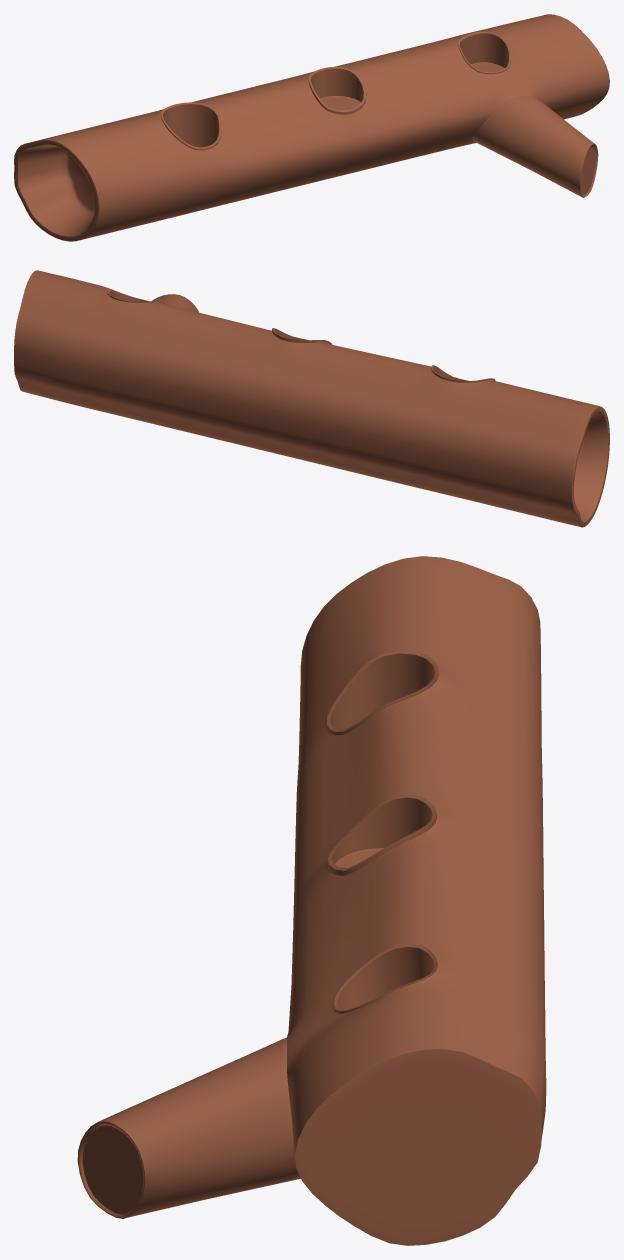
Rendered from houdai_touboku.fbx.
The picture shows the model from 3 angles, top to bottom: view 1: azimuth 30°, elevation 25°; view 2: azimuth 150°, elevation 25°; view 3: azimuth 270°, elevation 25°; orthographic projection. The views are drawn at different scales.
Parts seen in each view (by area): view 1: touboku, touboku_sousyoku; view 2: touboku, touboku_sousyoku; view 3: touboku, touboku_sousyoku.
Part boxes in pixels (bbox=[...]): touboku: bbox=[14, 14, 609, 241]; touboku_sousyoku: bbox=[472, 96, 598, 197]; touboku: bbox=[14, 270, 609, 527]; touboku_sousyoku: bbox=[151, 294, 198, 312]; touboku: bbox=[287, 556, 546, 1245]; touboku_sousyoku: bbox=[77, 1037, 300, 1218].
Size of the model in its own units: 935 by 186 by 355.
